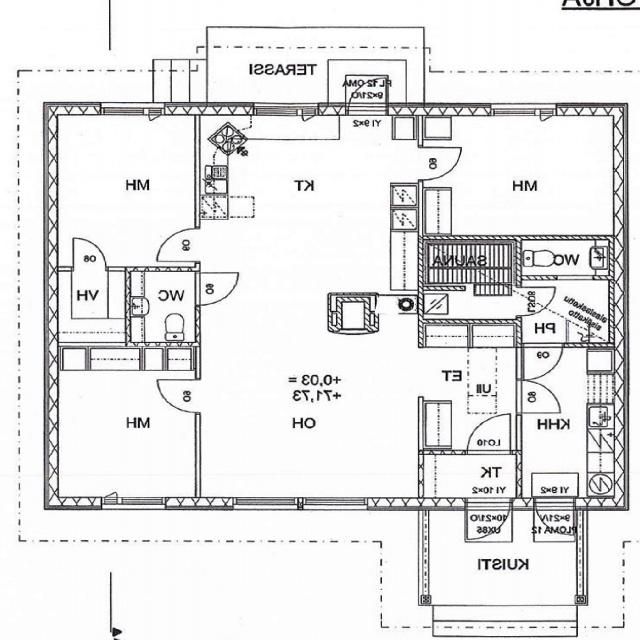door: (467, 497, 510, 546), (468, 414, 511, 455), (536, 497, 574, 541), (349, 71, 386, 116), (157, 380, 201, 413), (516, 380, 560, 413), (196, 272, 239, 305), (157, 229, 200, 261), (419, 147, 462, 179), (524, 343, 562, 379), (516, 287, 556, 316), (74, 240, 106, 272)
